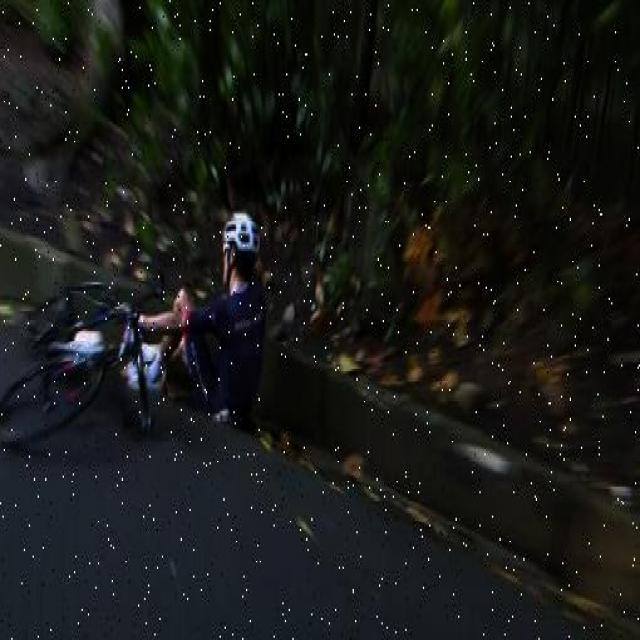fall: (147, 227, 260, 400)
